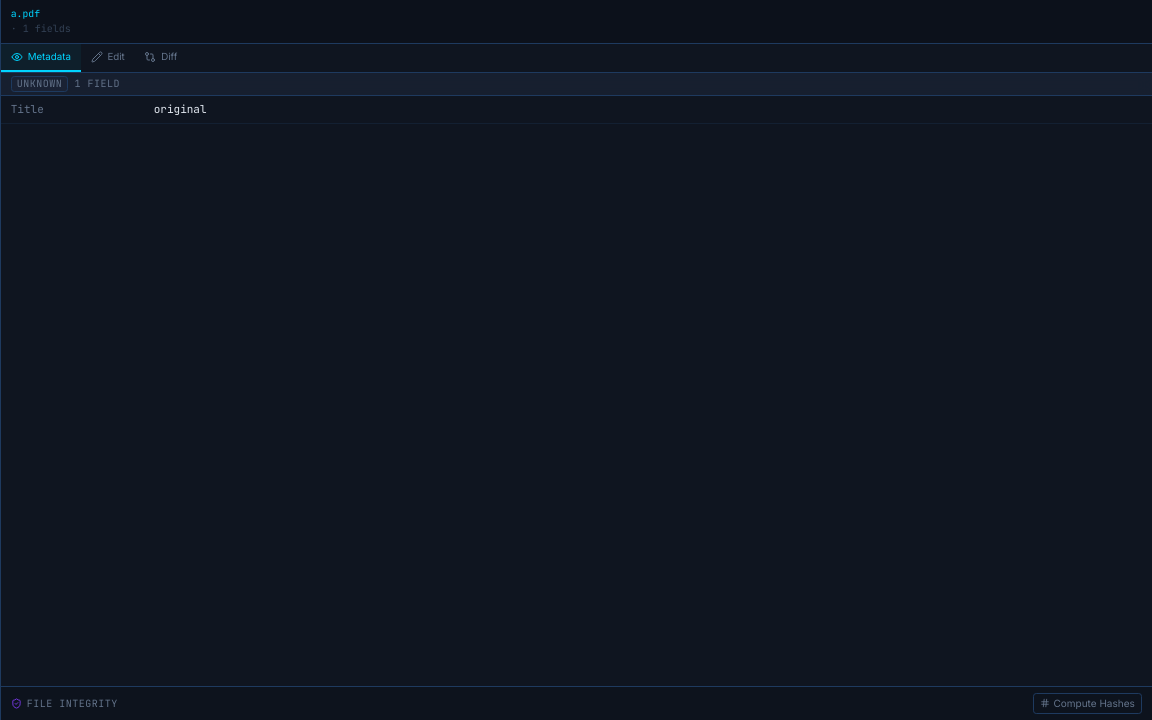
Test case: hash copy reports success only after clipboard resolves and handles denial
Click the button "Compute Hashes".
click(1087, 703)  # box [1033, 693, 1142, 714]
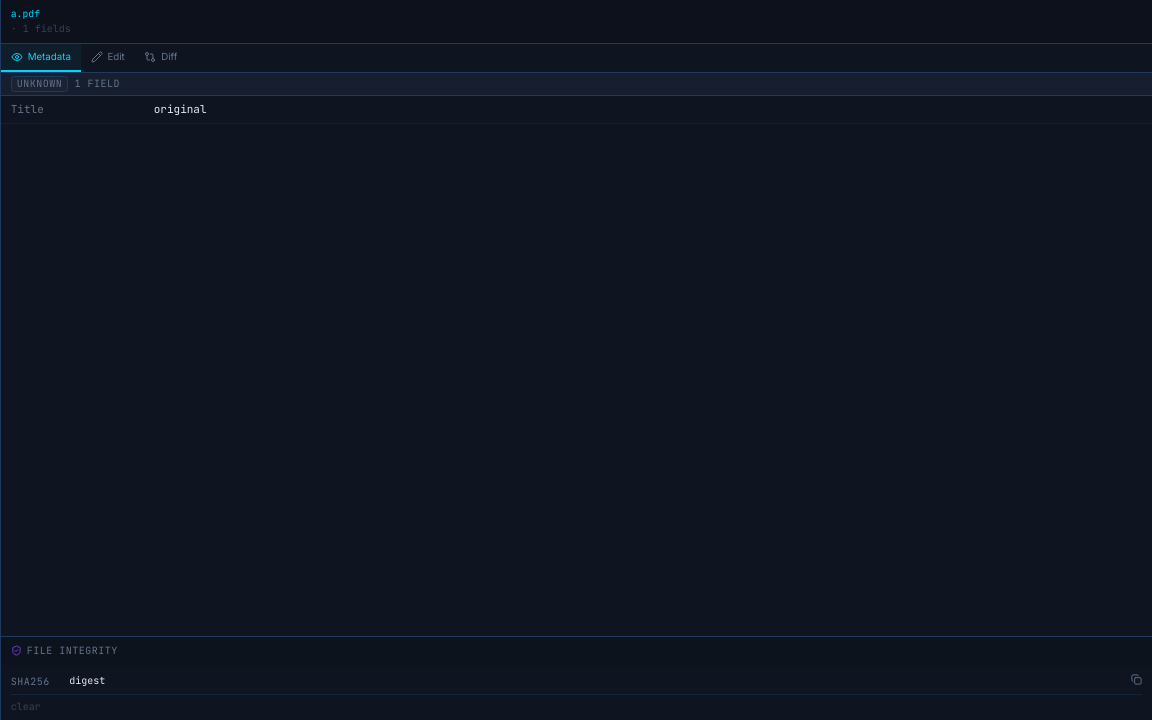
Click the button named "Copy sha256".
click(1137, 680)  # box [1131, 674, 1142, 685]
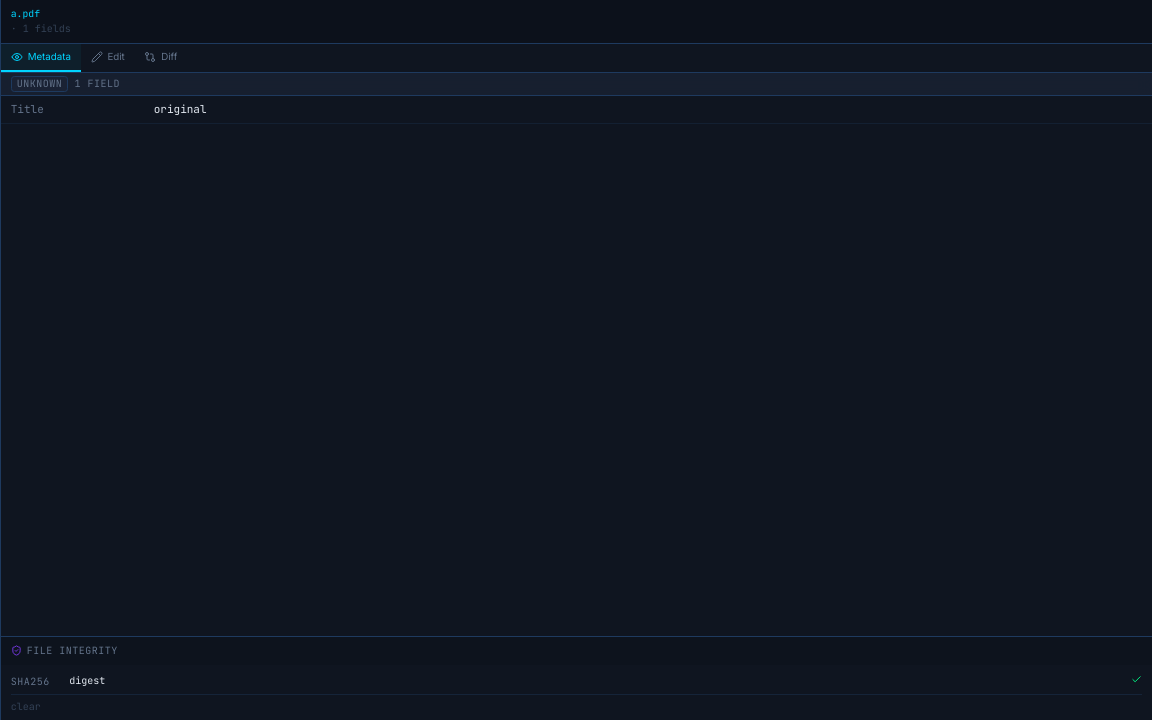
Click the button named "Copied sha256".
click(1137, 680)  # box [1131, 674, 1142, 685]
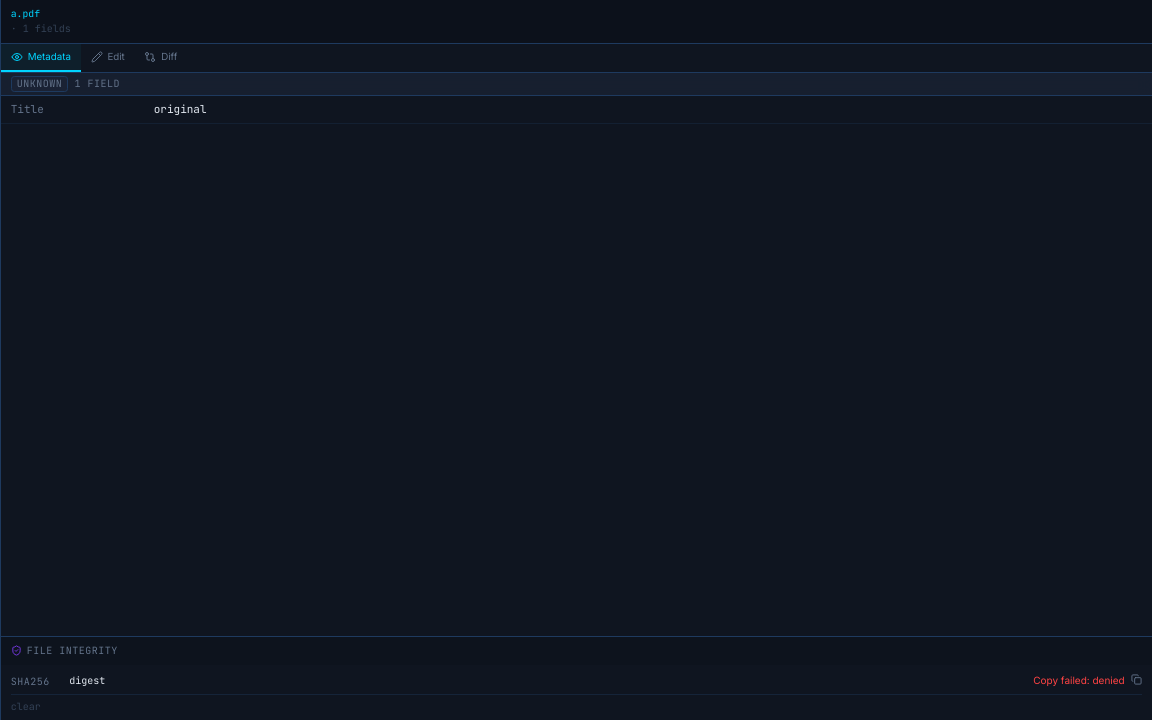
Check: the message "Copy failed: denied" is shown, box [1033, 673, 1125, 688]
Check: the message reads "Copy failed: denied", box [1033, 674, 1125, 686]
